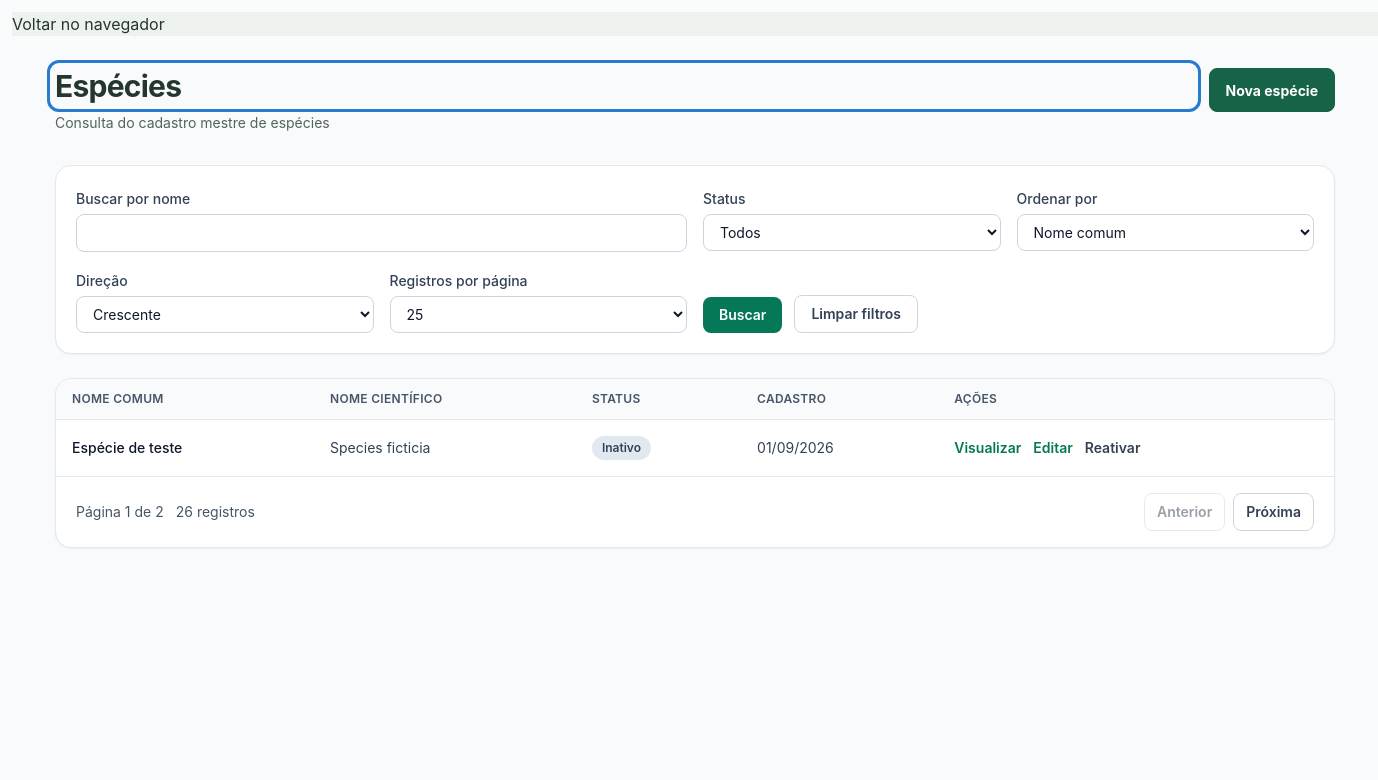
it: consulta dos cadastros básicos › oferece Visualizar antes das demais ações em /especies e abre o registro selecionado
This screenshot has width=1378, height=780.
Check: the text "Espécie de teste" is shown, box [56,420,314,476]
Check: the button "Reativar" is shown, box [1085,438,1140,458]
Click the link "Visualizar" at (988,448), box [954,438,1021,458]
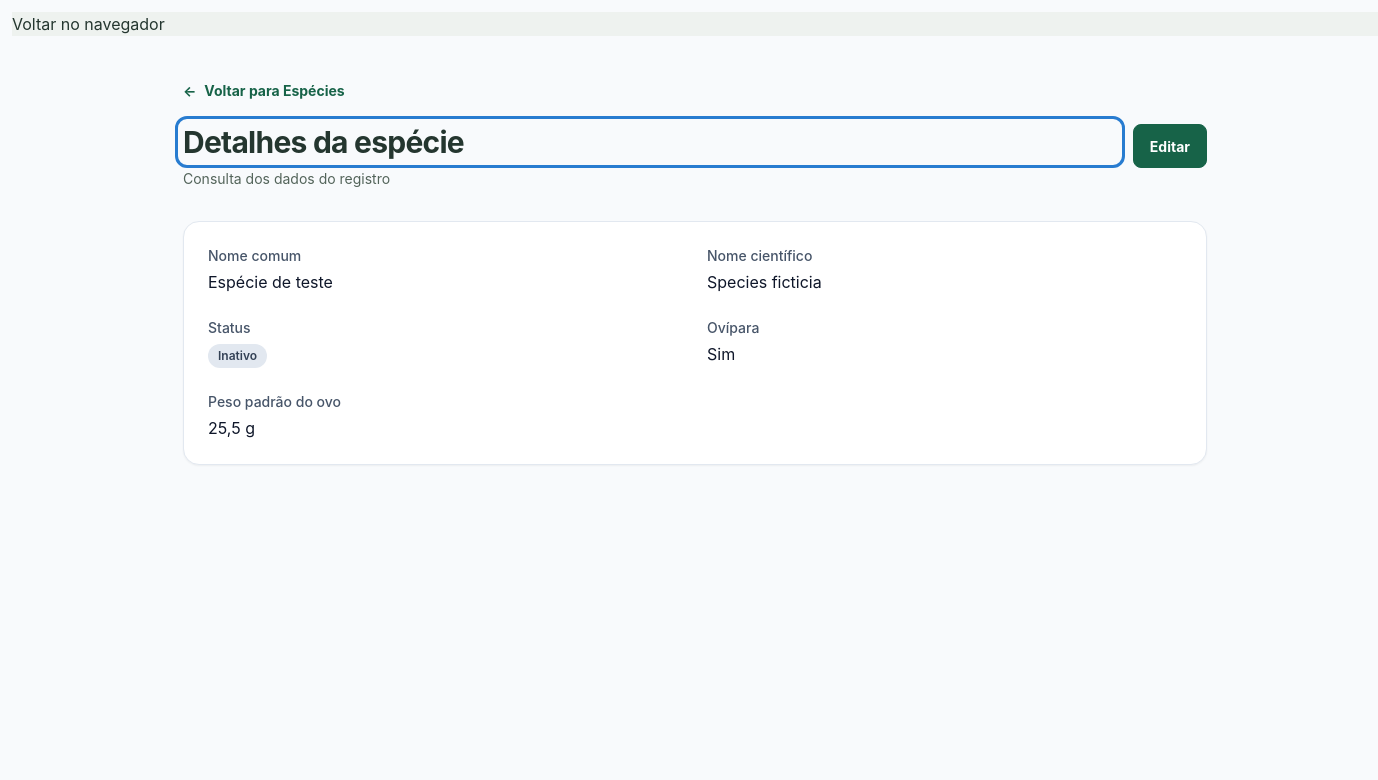
Check: the text "Espécie de teste" is shown, box [208,272,333,292]
Check: the heading shows "Detalhes", box [183,124,464,160]
